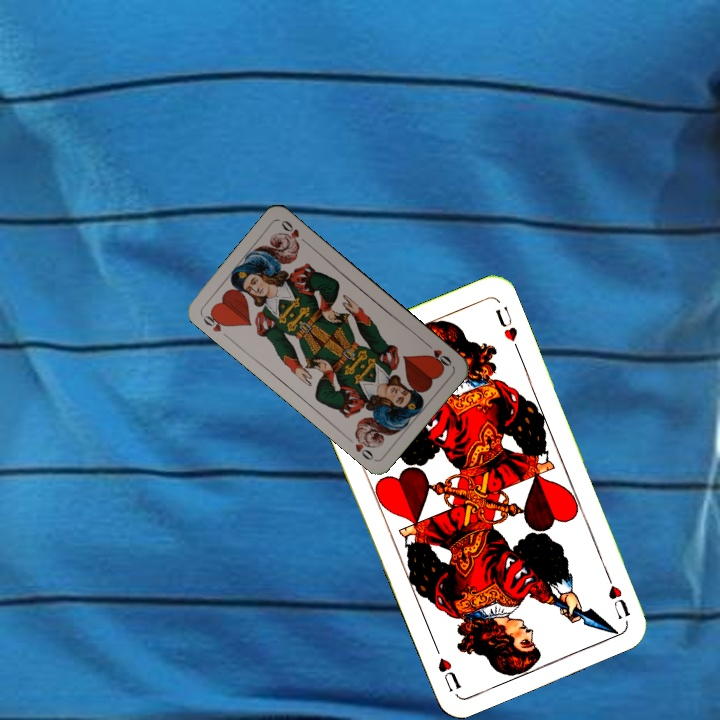HO: (198, 307, 232, 341), (421, 338, 454, 370)
HU: (601, 567, 633, 622)
